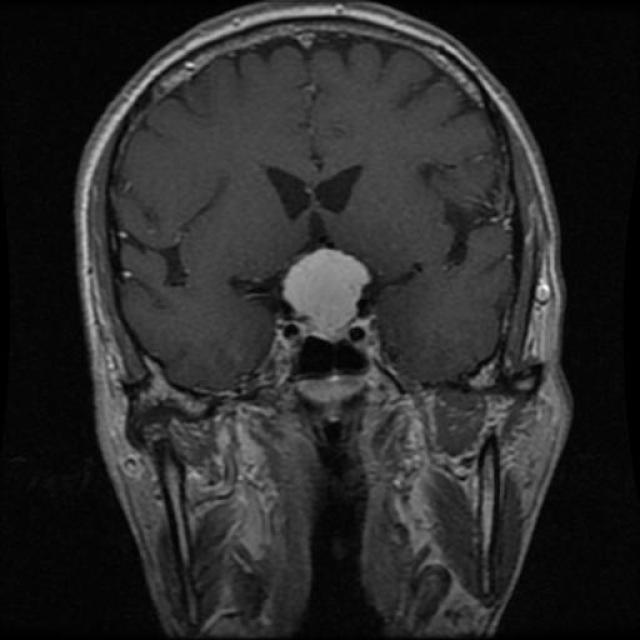meningioma: (282, 249, 370, 325)
